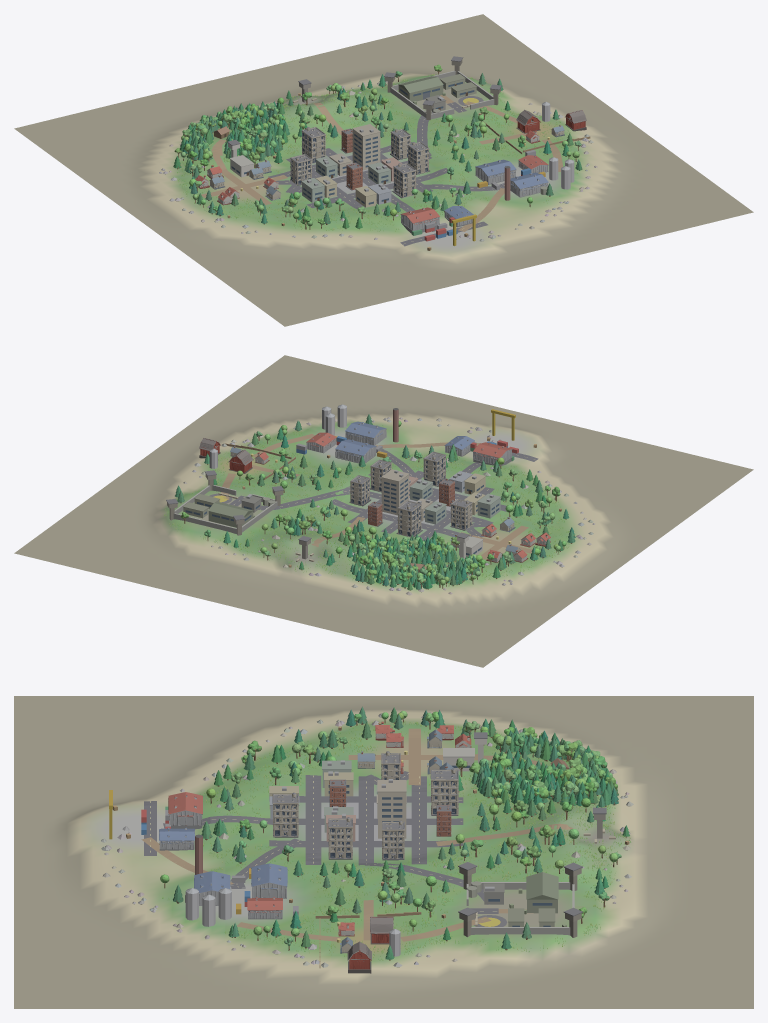
The model's file is island.glb.
3 renders of one model, top to bottom at view 1: azimuth 30°, elevation 25°; view 2: azimuth 150°, elevation 25°; view 3: azimuth 270°, elevation 25°, orthographic. The views are drawn at different scales.
Parts seen in each view (by area): view 1: O_3_3, T_1_5, T_0_4, T_3_6, O_2_3, T_2_6, T_4_6, O_2_2, T_0_2, T_0_3, T_5_6, T_6_5 (+58 smaller); view 2: O_3_3, T_0_2, T_3_1, O_2_3, T_4_0, T_3_0, T_2_0, T_0_1, T_1_0, T_5_0, T_1_1, T_0_0 (+57 smaller); view 3: O_3_3, T_6_4, T_6_2, T_6_3, T_5_5, T_5_1, T_4_6, T_6_5, T_5_6, T_5_0, T_6_1, T_1_6 (+64 smaller).
Boxes of the visible parts, <box> form: O_3_3: <box>329,124,429,185</box>; T_1_5: <box>275,231,379,281</box>; T_0_4: <box>169,219,274,269</box>; T_3_6: <box>447,228,552,277</box>; O_2_3: <box>268,153,362,202</box>; T_2_6: <box>380,244,485,293</box>; T_4_6: <box>514,214,619,261</box>; O_2_2: <box>229,114,325,173</box>; T_0_2: <box>91,164,191,213</box>; T_0_3: <box>130,191,235,241</box>; T_5_6: <box>581,200,686,244</box>; T_6_5: <box>610,156,714,200</box>; O_3_3: <box>335,459,438,525</box>; T_0_2: <box>494,560,598,610</box>; T_3_1: <box>254,533,349,587</box>; O_2_3: <box>416,478,500,536</box>; T_4_0: <box>148,556,253,602</box>; T_3_0: <box>215,571,320,618</box>; T_2_0: <box>282,588,387,634</box>; T_0_1: <box>455,590,559,639</box>; T_1_0: <box>349,605,454,651</box>; T_5_0: <box>81,541,186,585</box>; T_1_1: <box>388,579,492,622</box>; T_0_0: <box>416,623,521,667</box>; O_3_3: <box>324,779,436,863</box>; T_6_4: <box>225,956,330,1008</box>; T_6_2: <box>437,957,542,1008</box>; T_6_3: <box>331,954,436,1008</box>; T_5_5: <box>119,909,225,964</box>; T_5_1: <box>542,906,648,964</box>; T_4_6: <box>14,868,119,919</box>; T_6_5: <box>119,959,225,1008</box>; T_5_6: <box>14,916,119,964</box>; T_5_0: <box>648,917,753,964</box>; T_6_1: <box>542,961,648,1008</box>; T_1_6: <box>14,740,119,785</box>.
Size of the model in its own units: 336 by 29.78 by 336.
